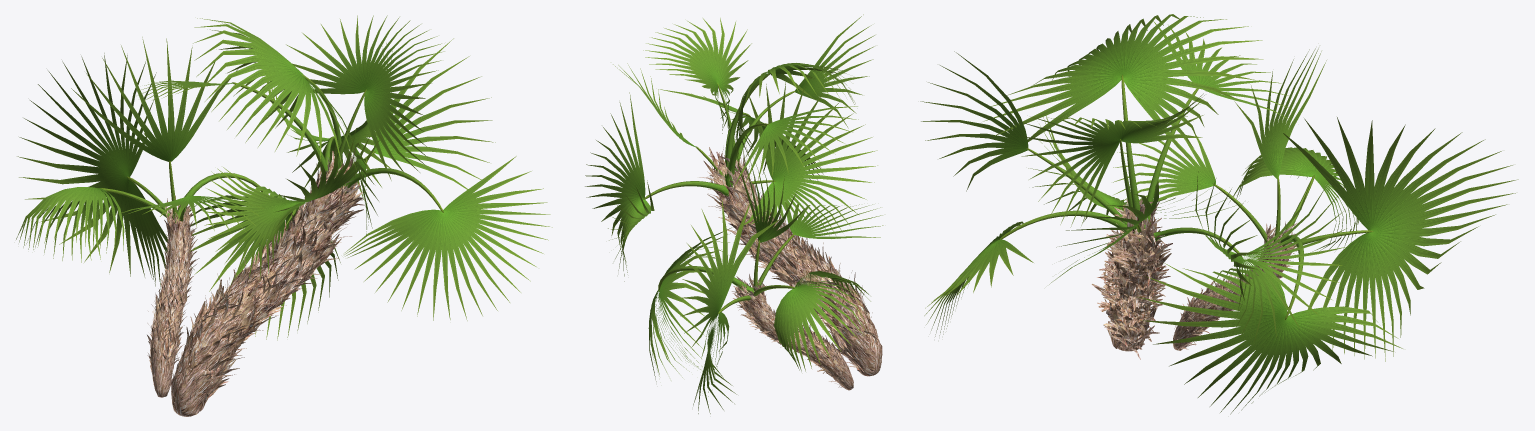
3 renders of one model, left to right at view 1: azimuth 30°, elevation 25°; view 2: azimuth 150°, elevation 25°; view 3: azimuth 270°, elevation 25°, orthographic. The views are drawn at different scales.
Visible parts, largest first — view 1: Leaves01, Leaves02, Trunk01, Trunk02; view 2: Leaves01, Leaves02, Trunk01, Trunk02; view 3: Leaves02, Leaves01, Trunk01, Trunk02.
Boxes of the visible parts, x1,y1,x2,y2 form: Leaves01: (139, 15, 552, 320); Leaves02: (16, 37, 340, 340); Trunk01: (171, 148, 364, 416); Trunk02: (147, 195, 199, 397); Leaves01: (585, 14, 877, 281); Leaves02: (648, 134, 883, 413); Trunk01: (697, 147, 882, 376); Trunk02: (732, 272, 853, 390); Leaves02: (1113, 48, 1518, 414); Leaves01: (920, 14, 1346, 341); Trunk01: (1091, 199, 1172, 359); Trunk02: (1173, 221, 1299, 350).
Bounding box in the file's own units: 60.23 × 53.62 × 79.77.
